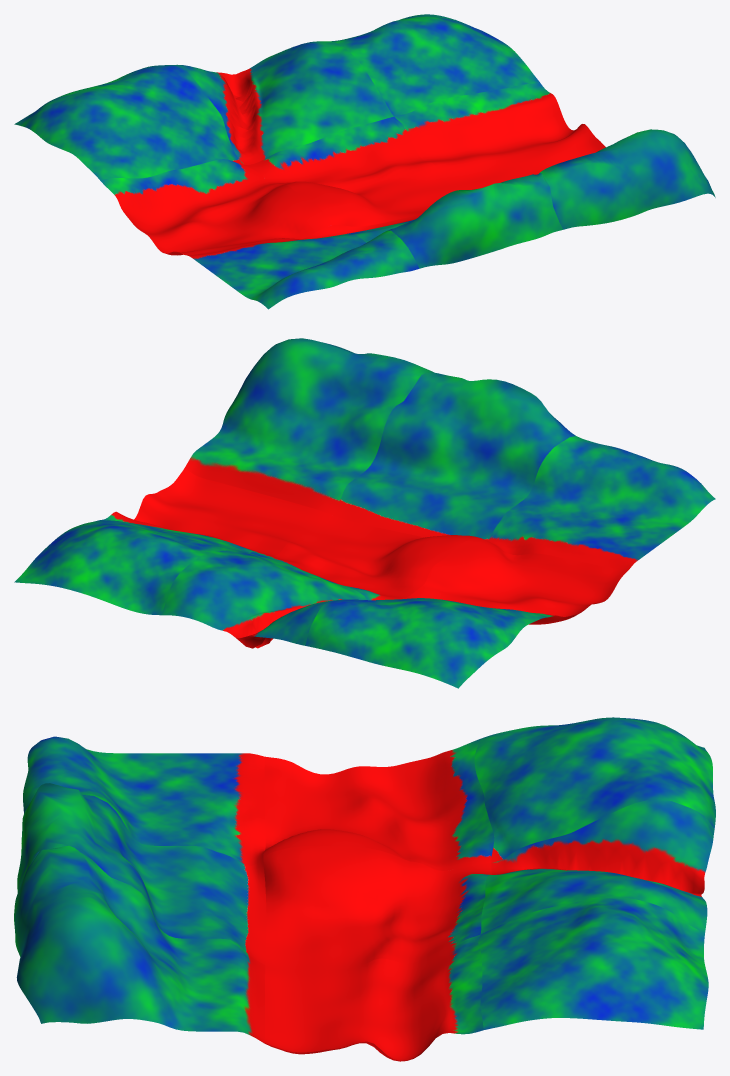
File: Terrain.fbx
3 views of the same model, one above another, from view 1: azimuth 30°, elevation 25°; view 2: azimuth 150°, elevation 25°; view 3: azimuth 270°, elevation 25° (orthographic). The views are drawn at different scales.
Parts seen in each view (by area): view 1: P8, P5, P7, P1, P4, P2, P0, P3, P6; view 2: P3, P0, P6, P8, P5, P2, P7, P1, P4; view 3: P0, P2, P4, P8, P7, P5, P1, P6, P3.
Part boxes in pixels (bbox=[...]): P8: bbox=[14, 65, 243, 180]; P5: bbox=[178, 41, 393, 164]; P7: bbox=[100, 159, 331, 255]; P1: bbox=[394, 82, 605, 190]; P4: bbox=[245, 117, 456, 226]; P2: bbox=[332, 14, 539, 116]; P0: bbox=[539, 129, 715, 229]; P3: bbox=[332, 173, 562, 268]; P6: bbox=[185, 225, 419, 309]; P3: bbox=[333, 372, 575, 540]; P0: bbox=[185, 338, 433, 515]; P6: bbox=[488, 436, 715, 569]; P8: bbox=[305, 598, 545, 688]; P5: bbox=[161, 550, 367, 648]; P2: bbox=[14, 520, 248, 615]; P7: bbox=[401, 537, 628, 624]; P1: bbox=[100, 468, 332, 555]; P4: bbox=[250, 515, 476, 600]; P0: bbox=[14, 845, 265, 1043]; P2: bbox=[478, 896, 708, 1029]; P4: bbox=[263, 846, 491, 971]; P8: bbox=[474, 717, 715, 862]; P7: bbox=[263, 739, 494, 870]; P5: bbox=[480, 799, 714, 933]; P1: bbox=[264, 934, 483, 1061]; P6: bbox=[23, 736, 265, 865]; P3: bbox=[17, 783, 266, 964].
Bounding box in the file's own units: 6.22 × 1.34 × 6.4.
Materials: 9 (9 with a texture image).
